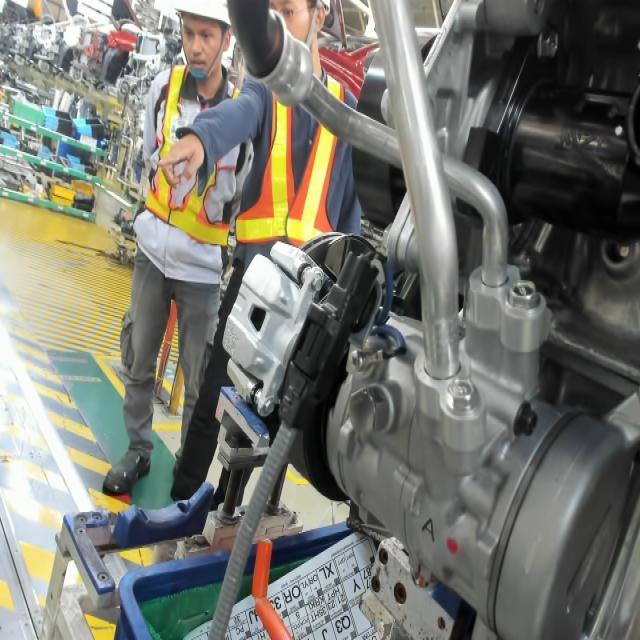Compressor-A: (414, 509, 438, 542)
